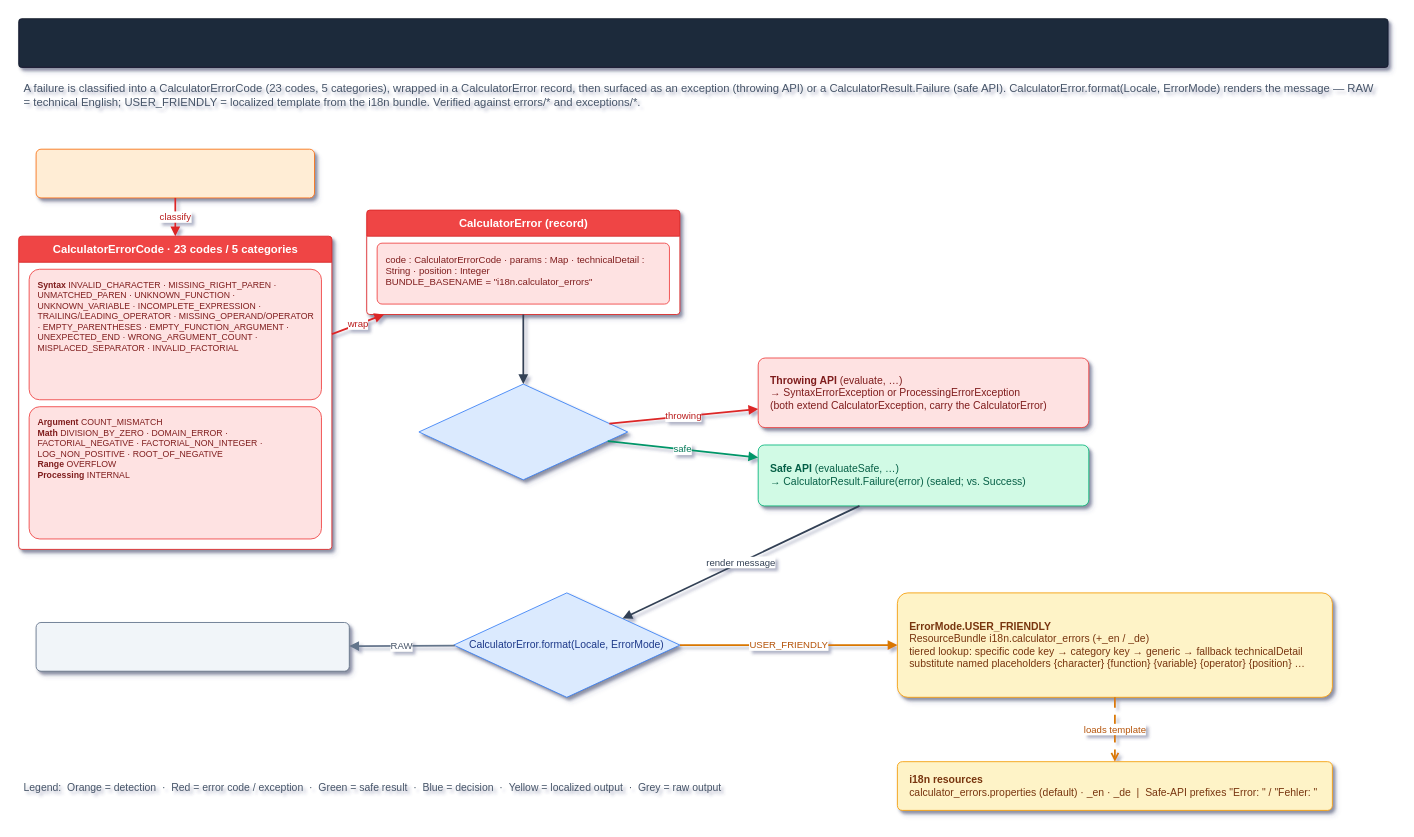
The diagram is 1414 pixels wide and 837 high, and some of its shapes have lost their labels. Here are the shapes that lost their labels. From the top down, the centre of each, then its label:
At pixel 703 44: "Error Handling Flow".
At pixel 176 174: "Failure detected in pipeline tokenize · validate · toPostfix · evaluate".
At pixel 524 433: "Which API was called?".
At pixel 193 647: "ErrorMode.RAW return technicalDetail (English, technical) — legacy default".
